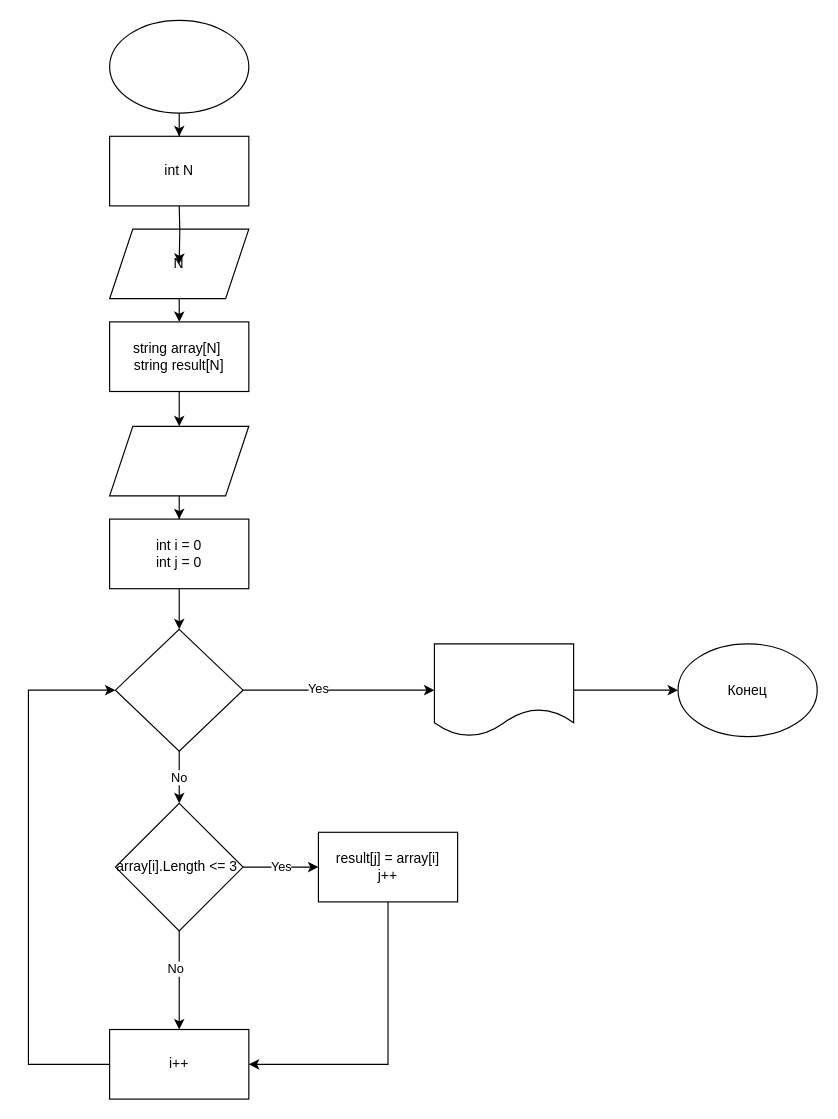
Image size: 838x1119. Some labels were removed from this diagram. The box of each missing label's shape, as (x1, y1, x2, y2) in pixels:
array[]: (108, 425, 249, 496)
i >= N-1: (114, 628, 243, 751)
result[]: (433, 643, 574, 737)
Начало: (108, 19, 249, 113)
